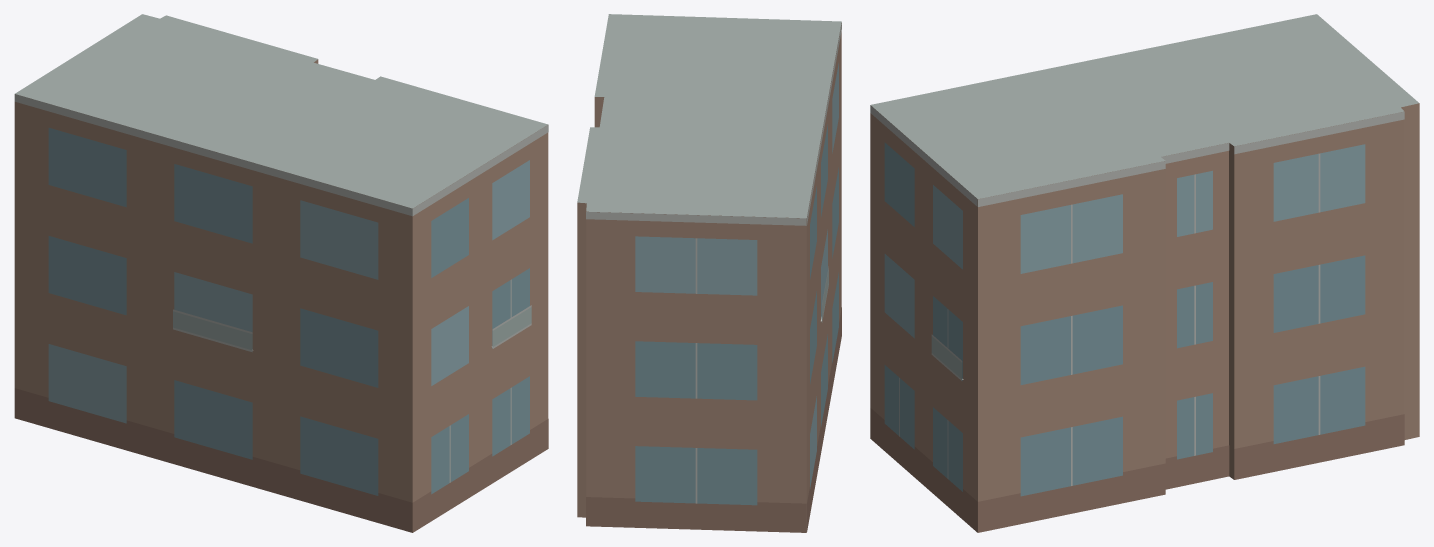
The model's file is survey-upis-32904913.glb.
3 views of the same model, side by side, from view 1: azimuth 30°, elevation 25°; view 2: azimuth 150°, elevation 25°; view 3: azimuth 270°, elevation 25° (orthographic). The views are drawn at different scales.
Visible parts, largest first — view 1: survey-upis-32904913.tmp; view 2: survey-upis-32904913.tmp; view 3: survey-upis-32904913.tmp.
Part boxes in pixels (box(x1,y1,x2,y2)): survey-upis-32904913.tmp: box(14, 14, 548, 532); survey-upis-32904913.tmp: box(577, 14, 841, 532); survey-upis-32904913.tmp: box(870, 14, 1419, 532).
Size of the model in its own units: 12.15 by 10.2 by 15.23.
